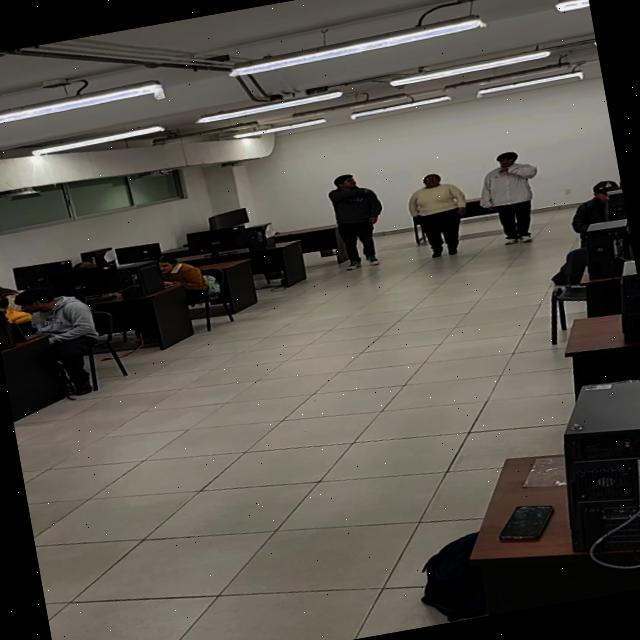Persona: (318, 162, 397, 276), (468, 144, 550, 252), (396, 163, 478, 265)
